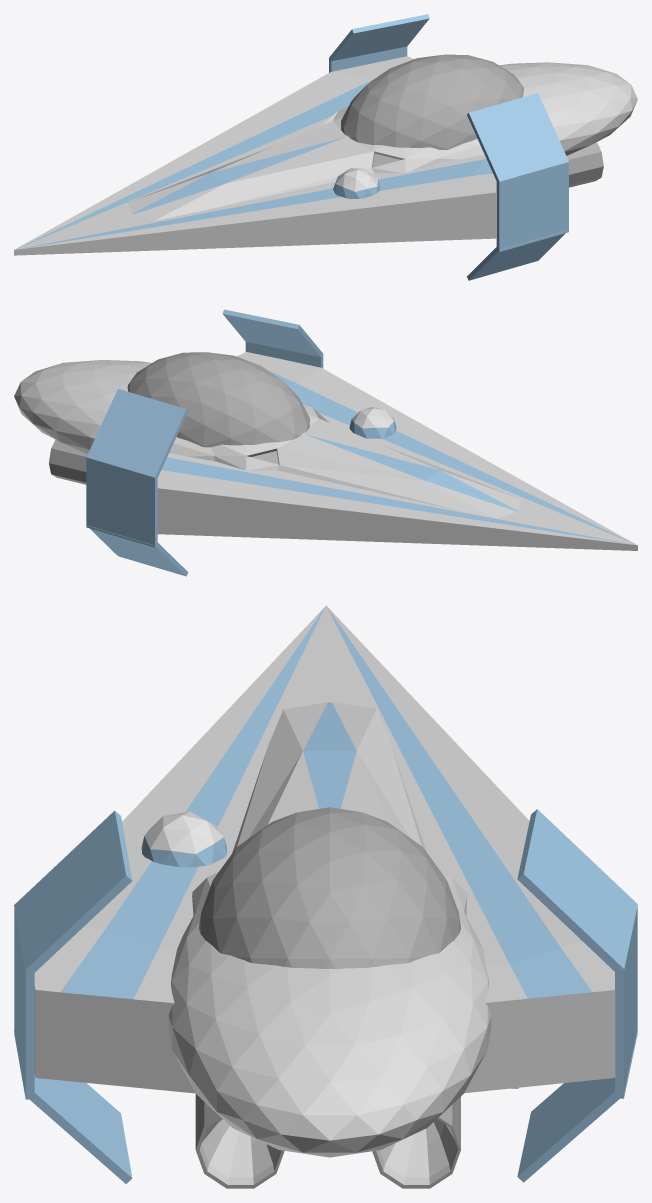
Rendered from kar — fly2.fbx.
The picture shows the model from 3 angles, top to bottom: view 1: azimuth 30°, elevation 25°; view 2: azimuth 150°, elevation 25°; view 3: azimuth 270°, elevation 25°; orthographic projection. The views are drawn at different scales.
Parts seen in each view (by area): view 1: Cube_2; view 2: Cube_2; view 3: Cube_2.
Boxes of the visible parts, x1,y1,x2,y2 form: Cube_2: (14,14,637,280); Cube_2: (14,309,637,576); Cube_2: (14,605,637,1188).
Size of the model in its own units: 1079 by 282 by 513.
